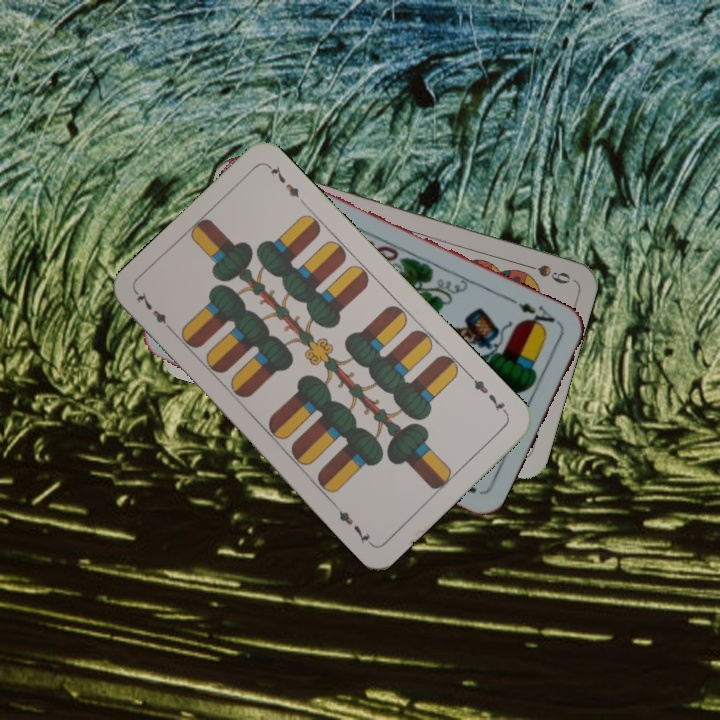E7: (465, 371, 511, 418), (132, 288, 177, 336)
EA: (514, 298, 564, 333)
S9: (516, 258, 573, 287)
